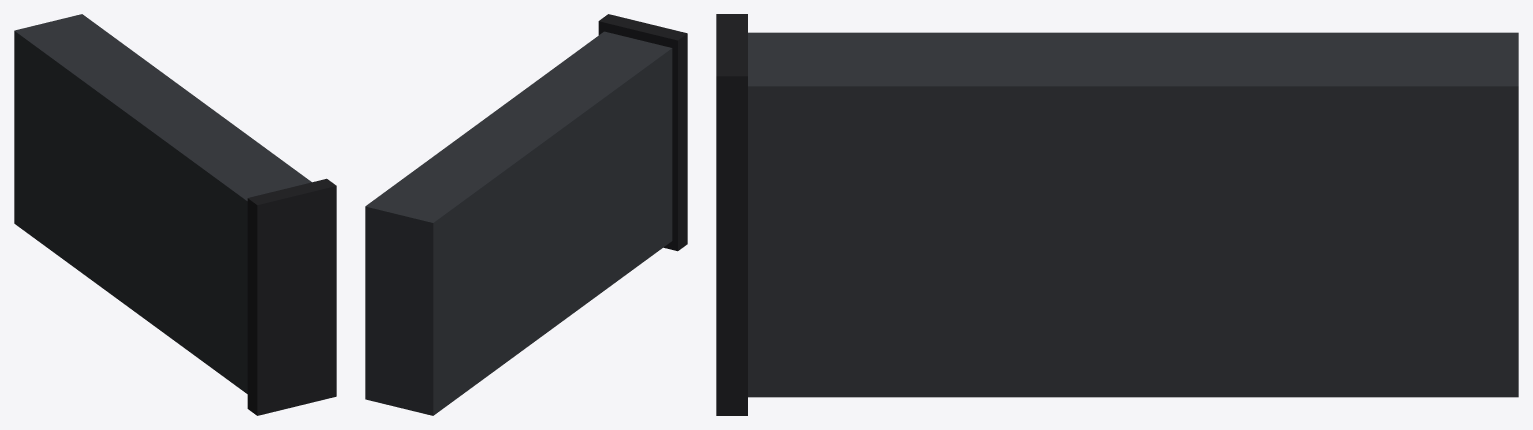
Rendered from AK74_Mag45.fbx.
The picture shows the model from 3 angles, left to right: view 1: azimuth 30°, elevation 25°; view 2: azimuth 150°, elevation 25°; view 3: azimuth 270°, elevation 25°; orthographic projection. The views are drawn at different scales.
Parts seen in each view (by area): view 1: prims; view 2: prims; view 3: prims.
Part boxes in pixels (x1,y1,x2,y2): prims: (14,14,336,415); prims: (365,14,687,415); prims: (716,14,1518,415).
Size of the model in its own units: 0.0168 by 0.0426 by 0.0912.
